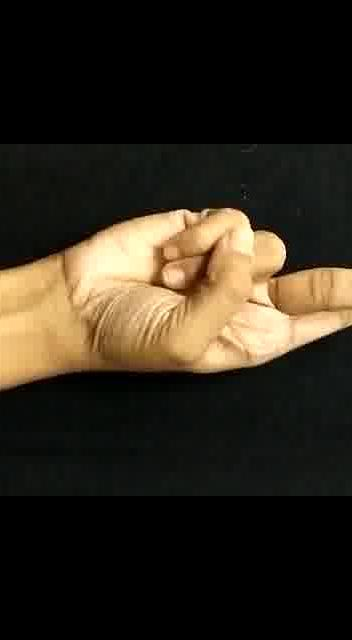kartarimukh: (38, 188, 352, 395)
